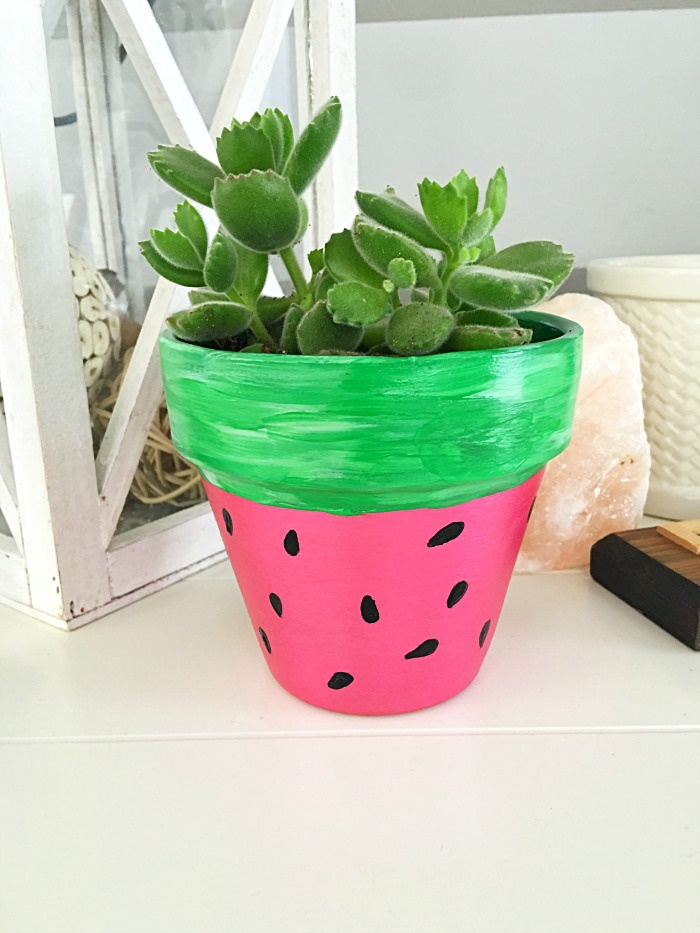flowerpot: (166, 315, 587, 711)
